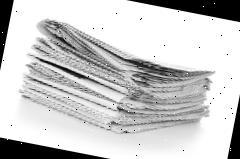paper: (13, 14, 222, 149)
